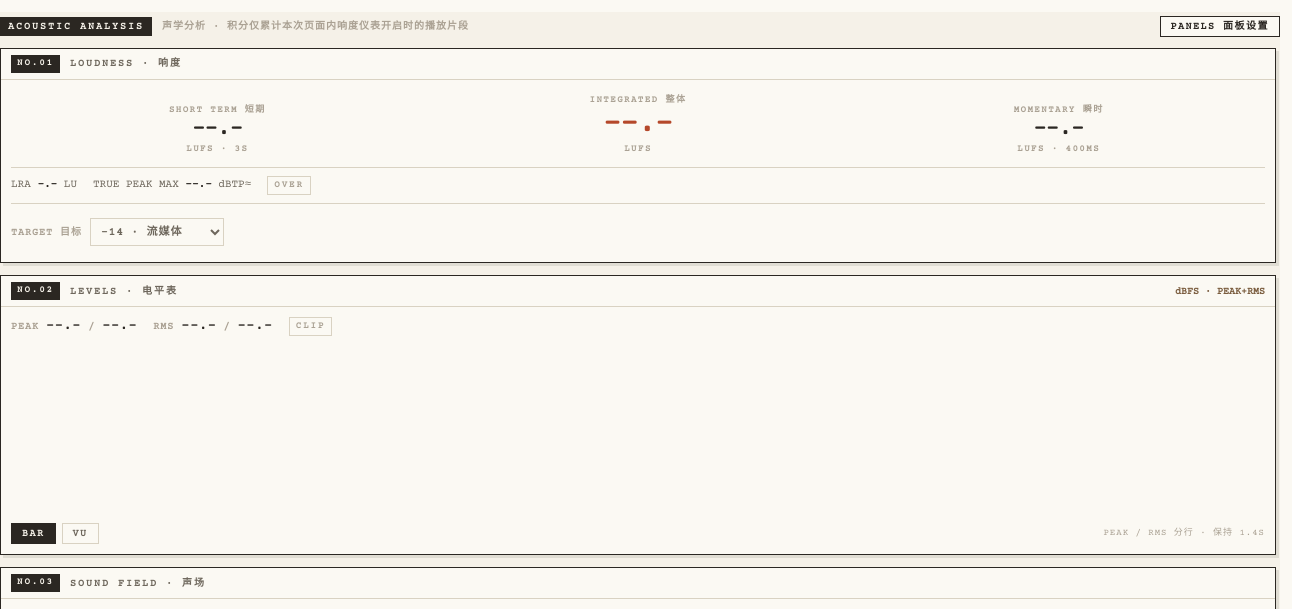
Test: AnalysisPage (v0.4.6+) › 电平表可切换到 VU 表盘模式并写入设置
Click the button "VU". click: x=80, y=534
box: left=62, top=523, right=98, bottom=544
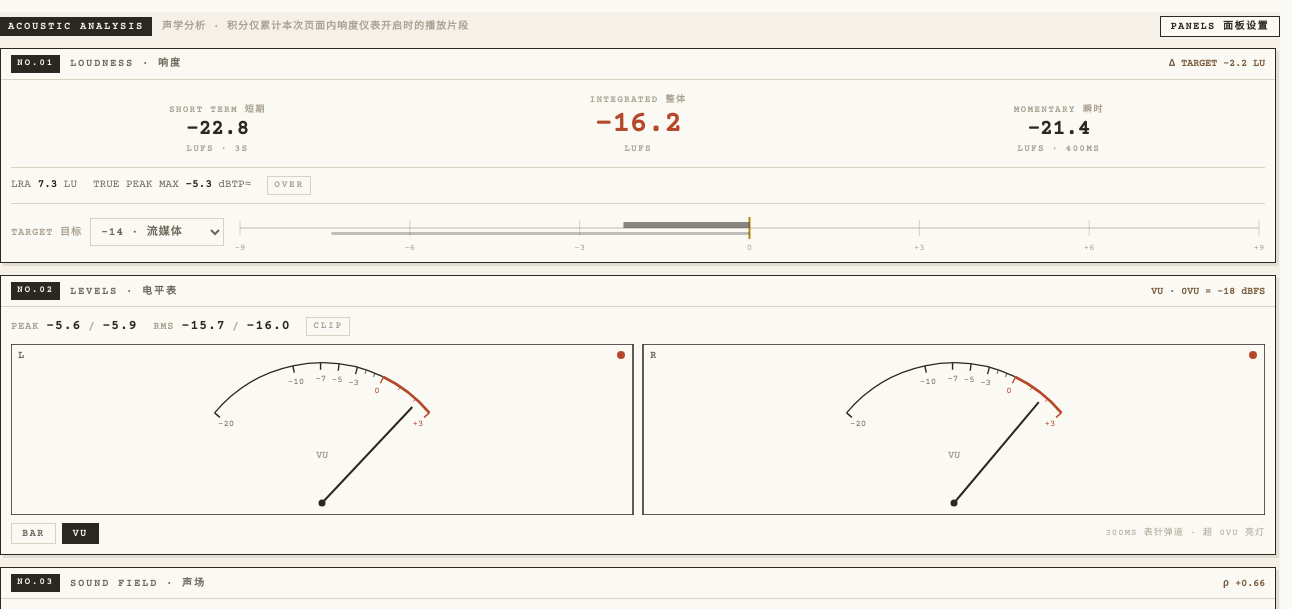
Expected: the text "VU · 0VU = -18 dBFS" is shown, left=1151, top=284, right=1265, bottom=298
